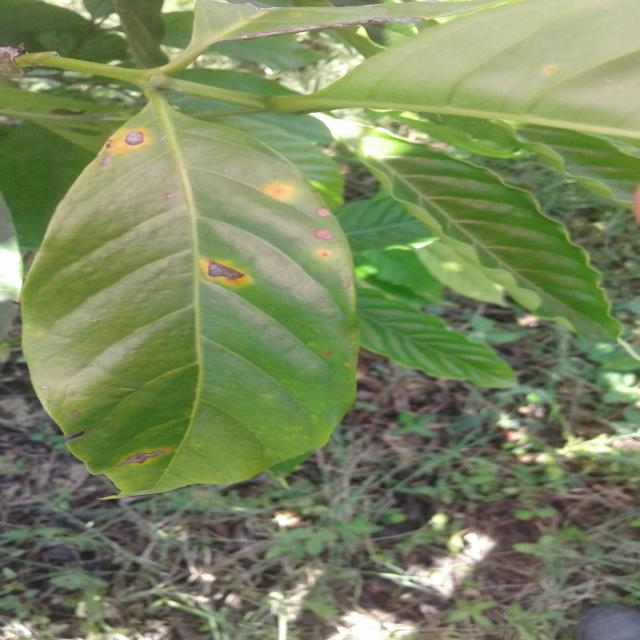Enfermedad-Roya: (21, 94, 360, 498)
